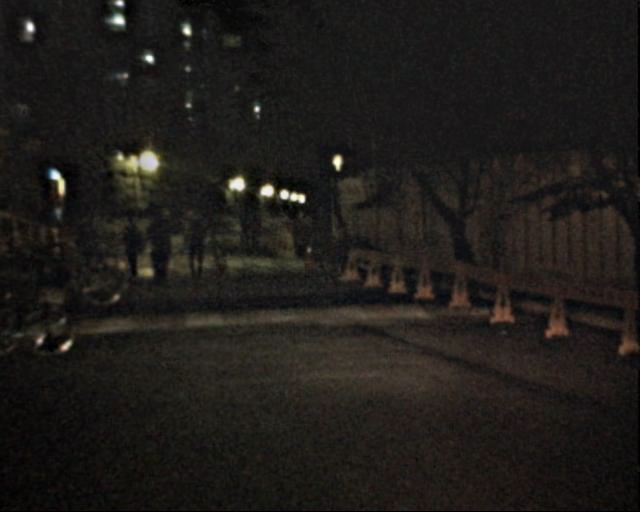person: (146, 209, 176, 281), (326, 210, 355, 280), (82, 207, 110, 275), (181, 209, 209, 277), (118, 210, 145, 277), (244, 208, 262, 252), (233, 211, 250, 253), (176, 209, 193, 250)
